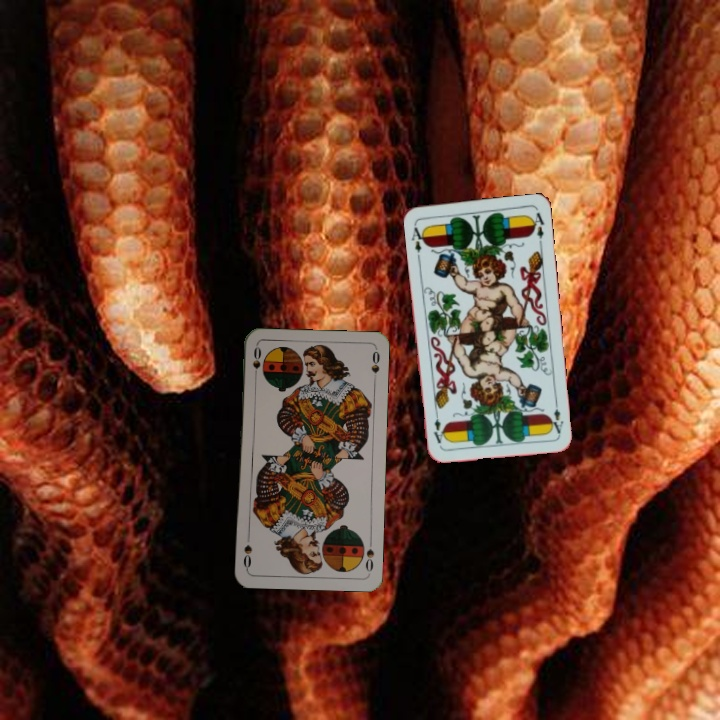EA: (408, 220, 428, 260), (546, 396, 566, 436)
SO: (249, 343, 264, 383), (362, 535, 377, 574)
